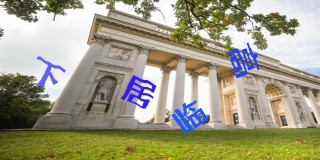下: (35, 55, 66, 88)
临: (171, 99, 208, 134)
居: (120, 75, 155, 109)
高: (226, 43, 259, 78)
